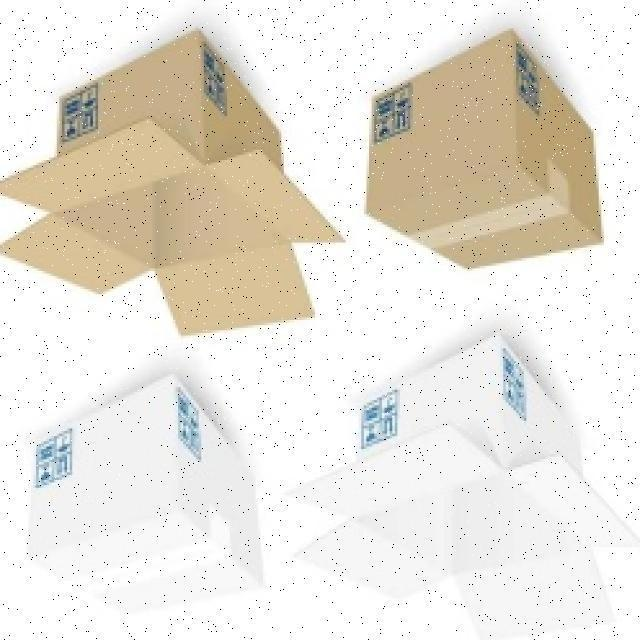box: (293, 340, 632, 631), (0, 44, 318, 328), (350, 41, 612, 280), (12, 381, 262, 603)
